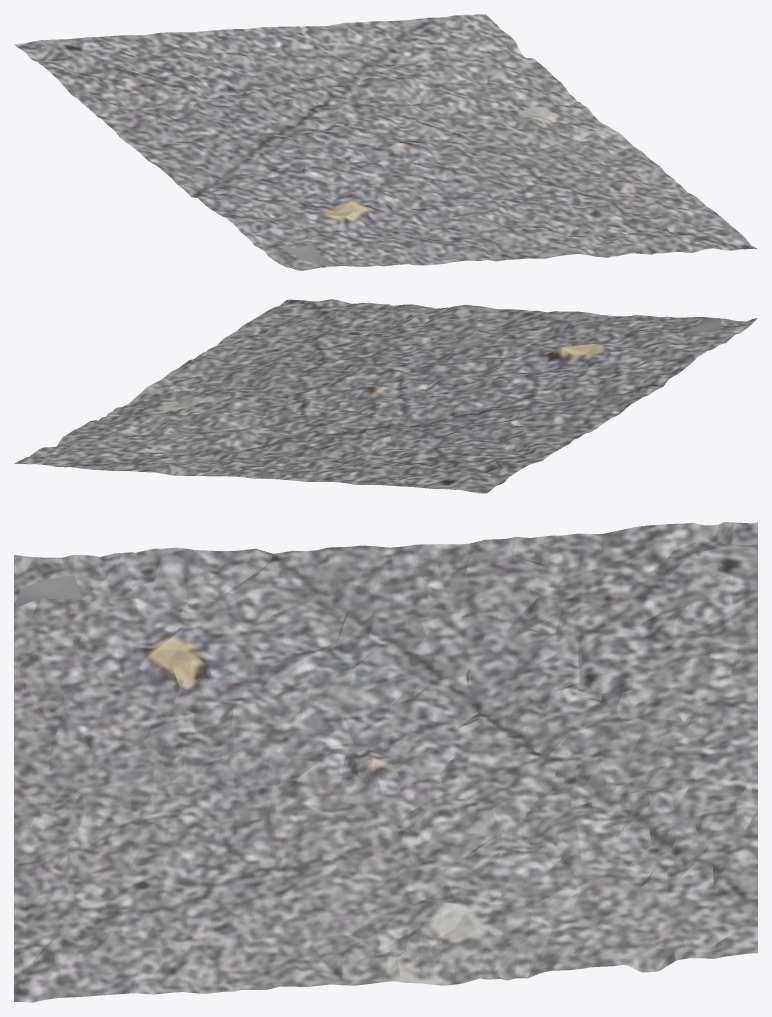
3 views of the same model, one above another, from view 1: azimuth 30°, elevation 25°; view 2: azimuth 150°, elevation 25°; view 3: azimuth 270°, elevation 25° (orthographic). The views are drawn at different scales.
Bounding box in the file's own units: 0.8374 × 0.2068 × 0.8373.
Materials: 3 (3 with a texture image).
